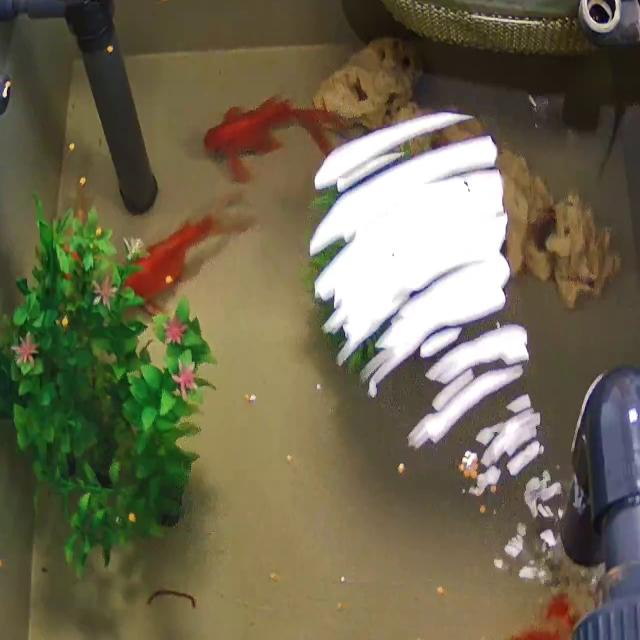fish: (188, 72, 343, 179), (119, 190, 257, 306)
